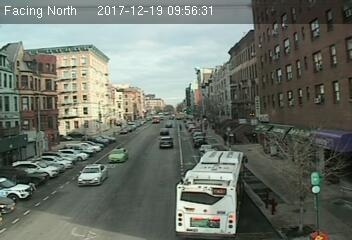bus: (173, 149, 247, 240)
car: (77, 163, 106, 186), (107, 147, 128, 164), (159, 135, 172, 148)
